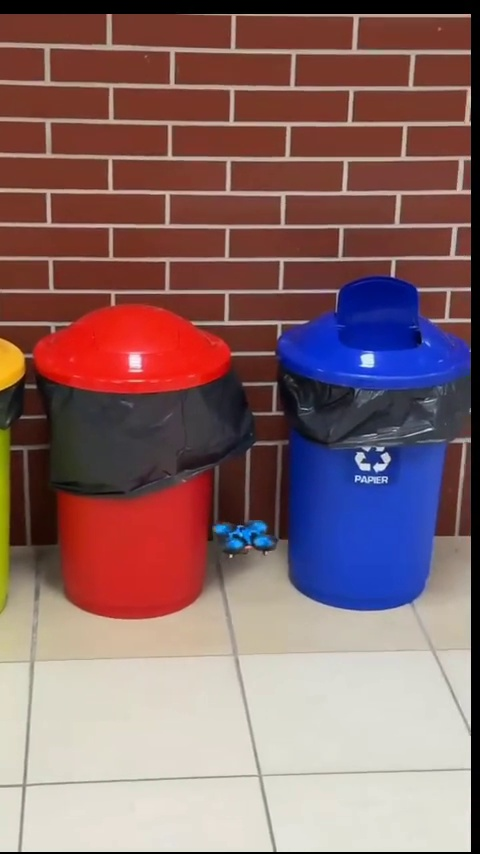drone: (204, 516, 280, 558)
